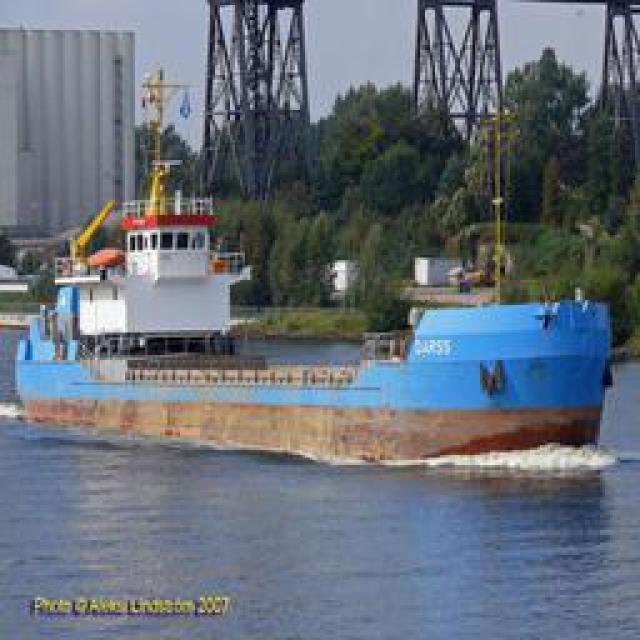Ship: (5, 65, 620, 464)
